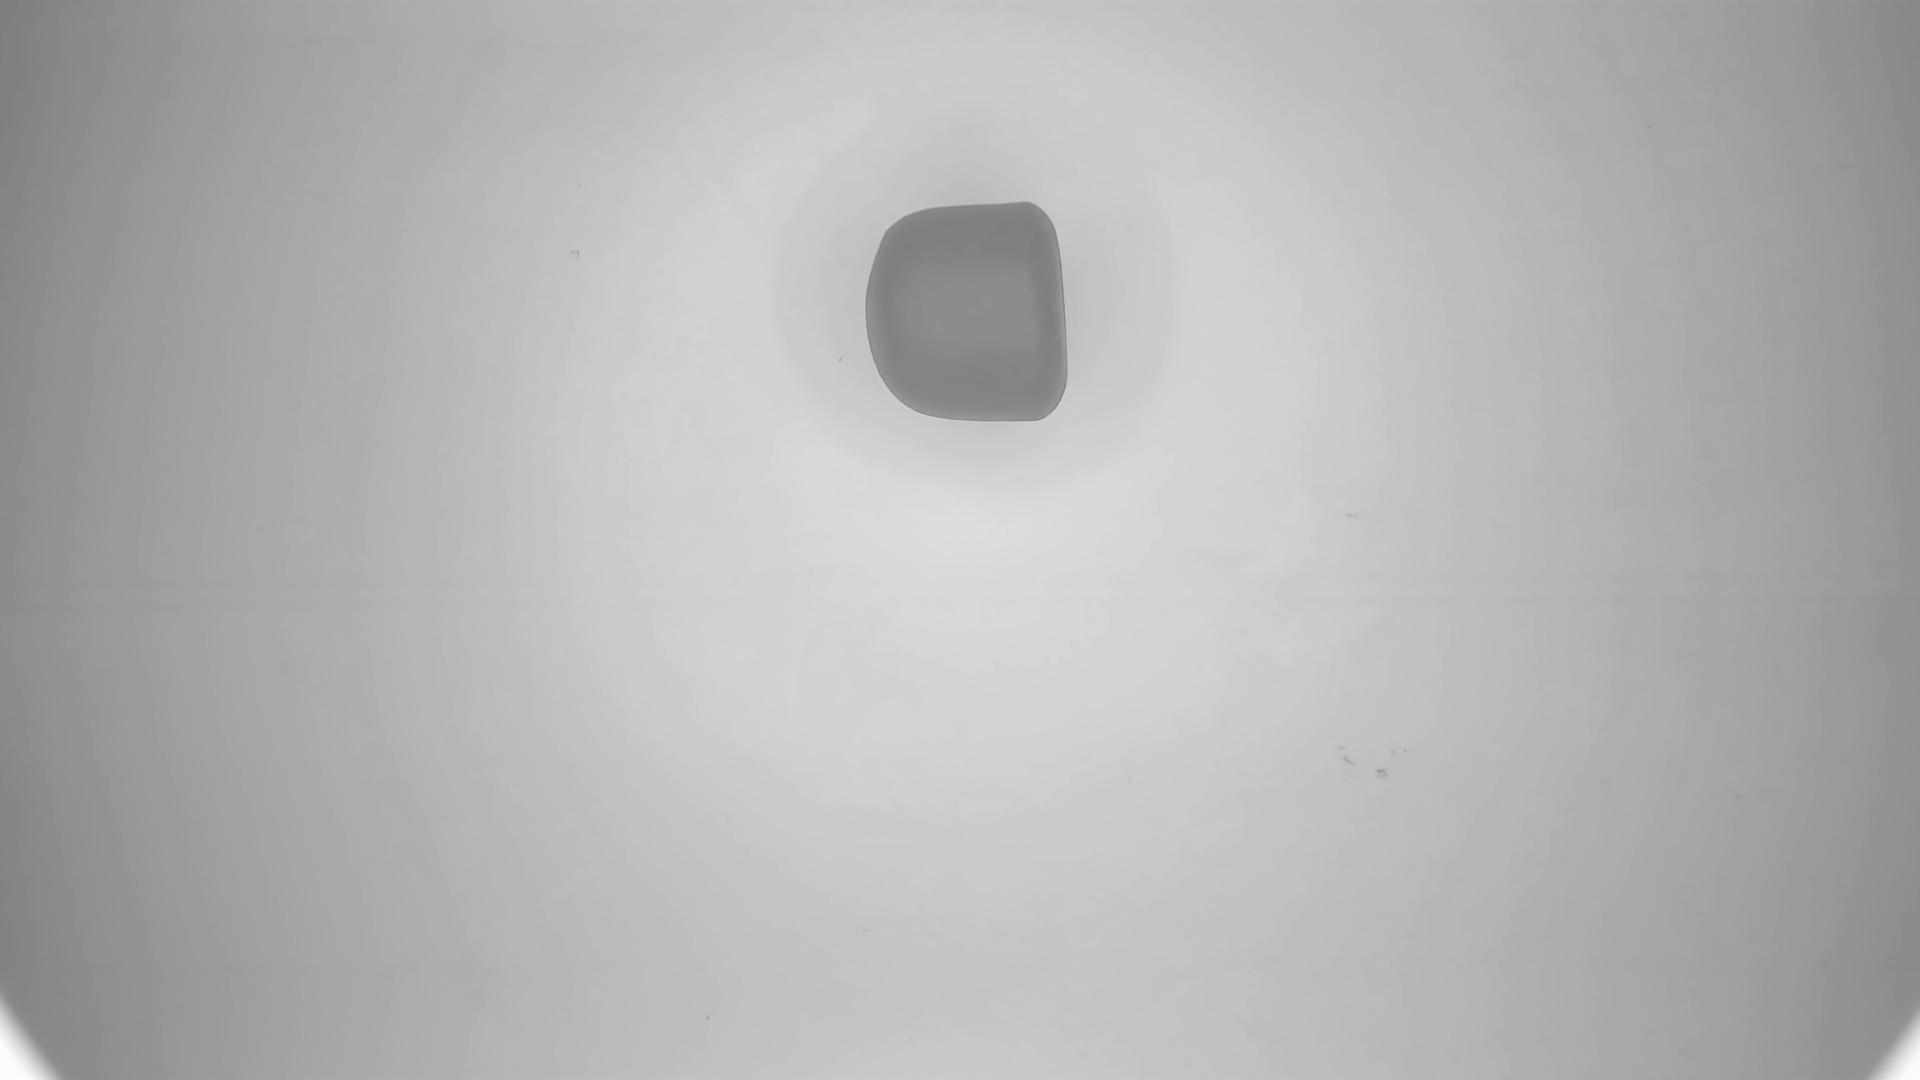normal: (864, 199, 1068, 425)
